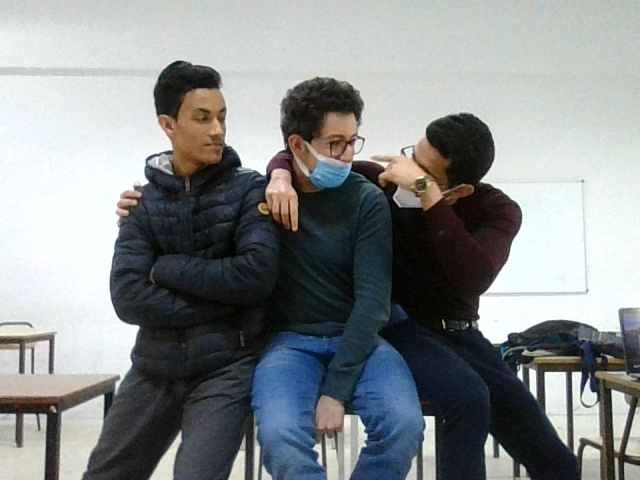mask_weared_incorrect: (274, 80, 370, 193)
without_mask: (150, 66, 240, 170)
